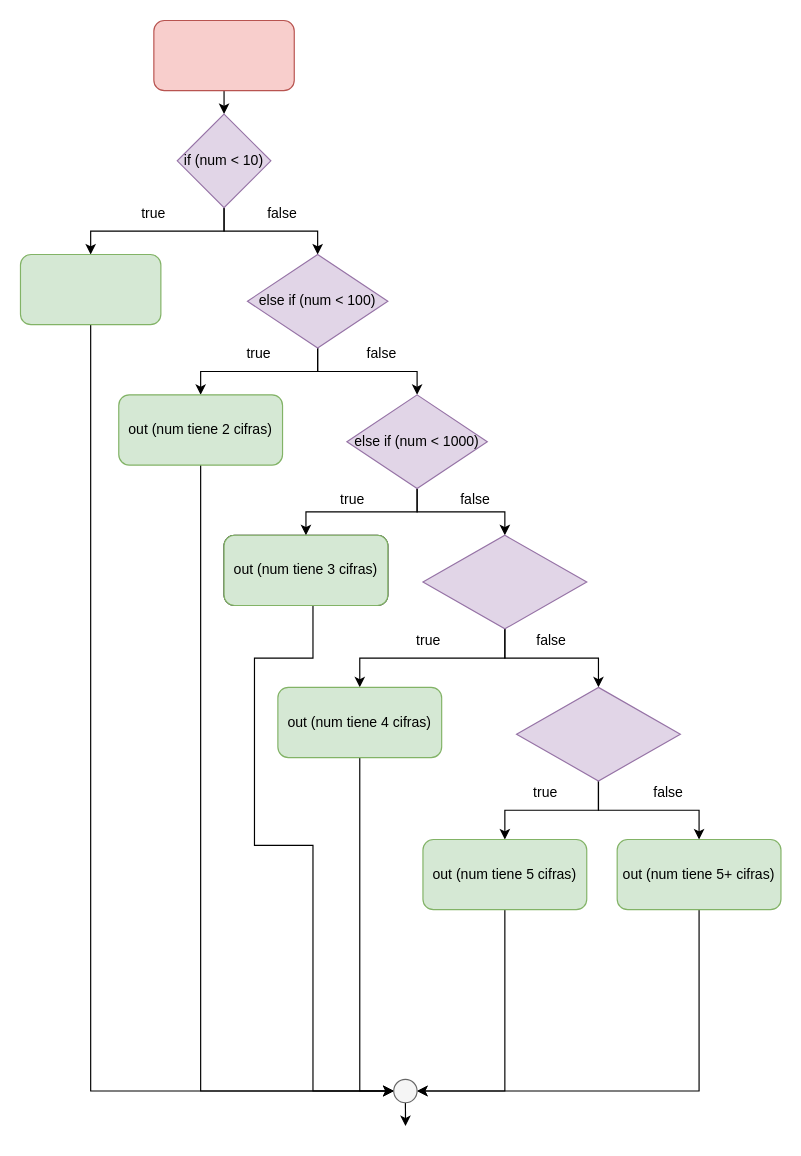
Some shapes in this 801 by 1156 pixel diagram are drawn without their labels. The shapes that lost their labels are listed below. From the top down, each one's box as (x1, y1, x2, y2) in pixels, then its label:
(153, 19, 294, 91): num = read.nextInt
(19, 253, 161, 325): out (num tiene 1 cifra)
(422, 534, 587, 629): else if (num < 10000)
(515, 686, 680, 781): else if (num < 100000)
